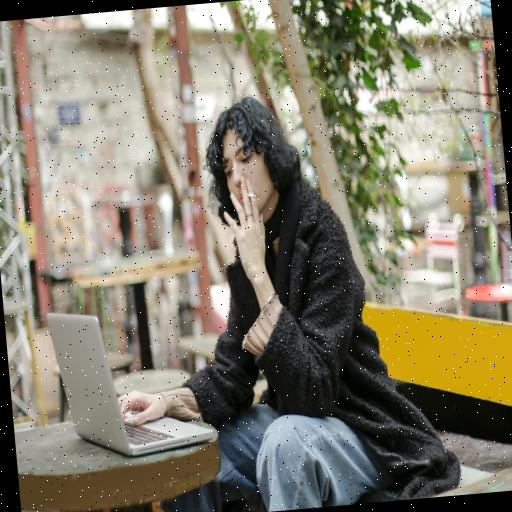terdeteksi merokok: (212, 124, 271, 240)
